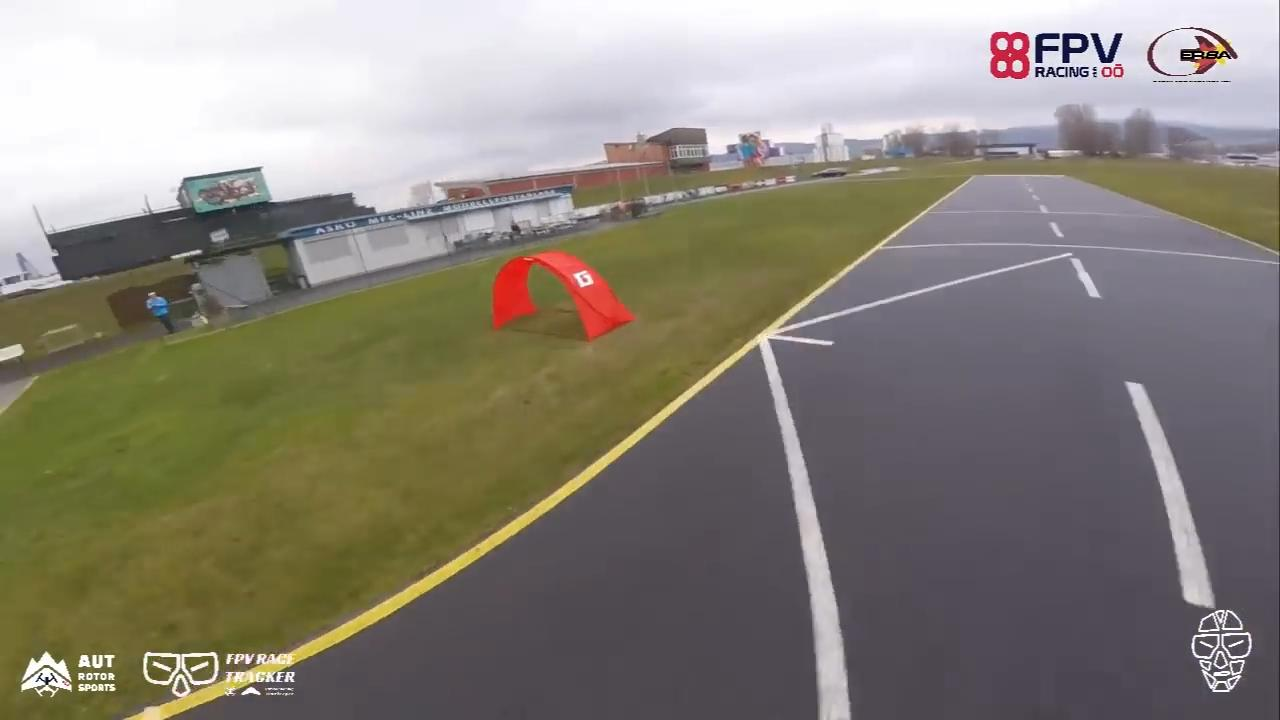gate: (490, 250, 637, 340)
